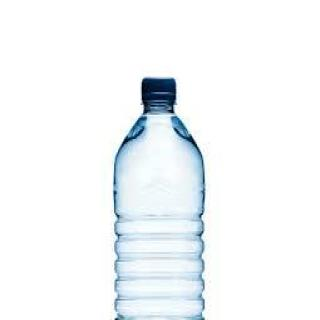Plastic-bottle: (111, 77, 208, 320)
